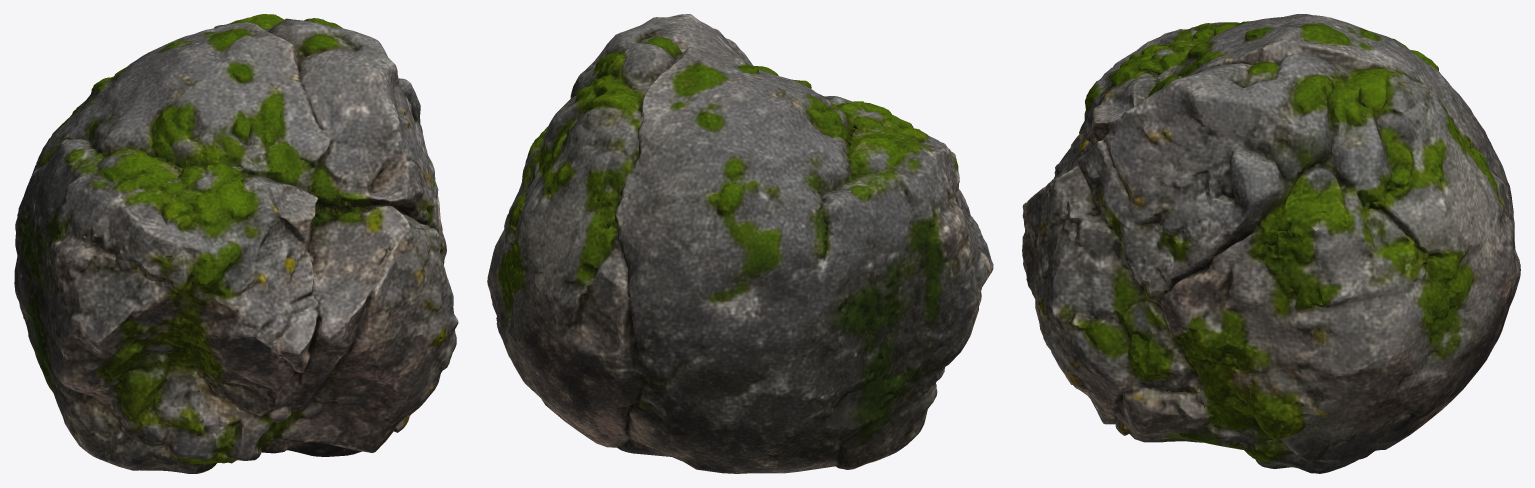
File: boulder-hero-v16-lod.glb
The picture shows the model from 3 angles, left to right: view 1: azimuth 30°, elevation 25°; view 2: azimuth 150°, elevation 25°; view 3: azimuth 270°, elevation 25°; orthographic projection. The views are drawn at different scales.
Visible parts, largest first — view 1: geometry_0; view 2: geometry_0; view 3: geometry_0.
Boxes of the visible parts, box(x1,y1,x2,y2) form: geometry_0: box(14, 14, 458, 473); geometry_0: box(487, 14, 993, 473); geometry_0: box(1022, 14, 1520, 473).
Size of the model in its own units: 0.35 by 0.3044 by 0.3502.
1 material, 1 textured.
